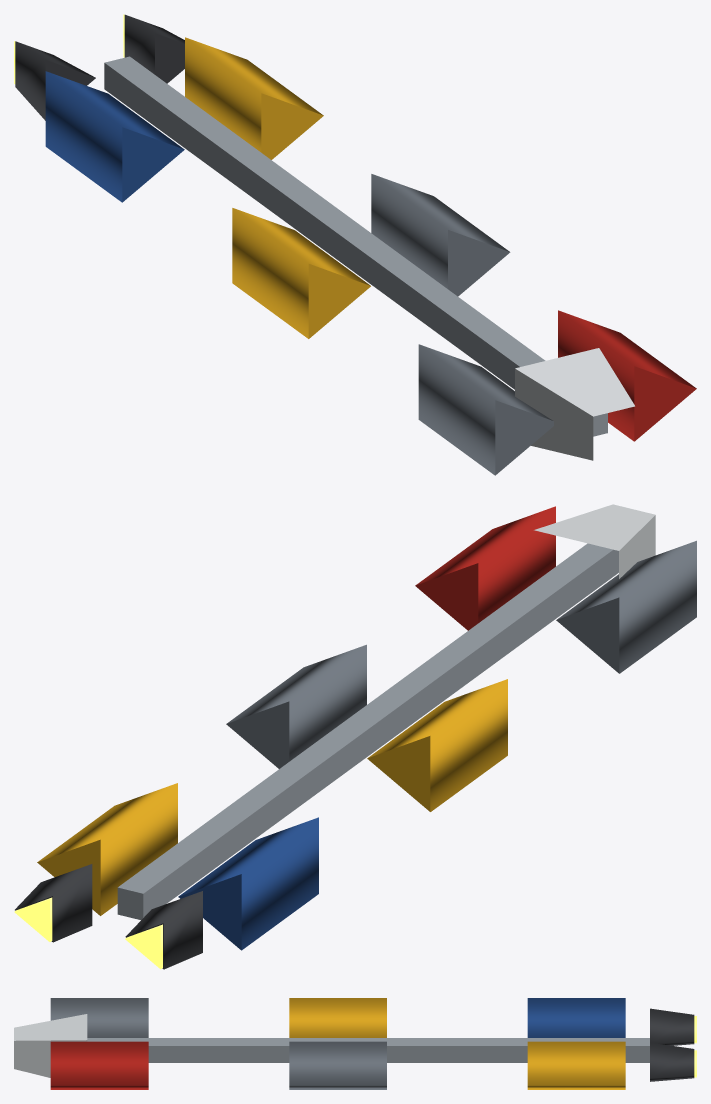
The model's file is space_ship_logistics_mk1_lod2.glb.
3 renders of one model, top to bottom at view 1: azimuth 30°, elevation 25°; view 2: azimuth 150°, elevation 25°; view 3: azimuth 270°, elevation 25°, orthographic. The views are drawn at different scales.
Parts seen in each view (by area): view 1: body, pod_0_0, pod_1_0, pod_2_0, pod_1_1, pod_0_1, pod_2_1, engine_0, engine_1; view 2: body, pod_1_0, pod_2_0, pod_0_0, pod_1_1, pod_2_1, pod_0_1, engine_0, engine_1; view 3: body, pod_0_1, pod_2_1, pod_1_1, pod_0_0, pod_1_0, pod_2_0, engine_0, engine_1.
Part boxes in pixels (x1,y1,x2,y2): body: [104, 56, 634, 460]; pod_0_0: [45, 71, 184, 202]; pod_1_0: [232, 208, 370, 338]; pod_2_0: [418, 344, 553, 475]; pod_1_1: [371, 174, 510, 296]; pod_0_1: [185, 37, 323, 159]; pod_2_1: [558, 310, 696, 441]; engine_0: [123, 14, 184, 83]; engine_1: [14, 41, 95, 120]; body: [117, 504, 655, 919]; pod_1_0: [367, 679, 507, 811]; pod_2_0: [556, 540, 696, 673]; pod_0_0: [178, 817, 318, 950]; pod_1_1: [226, 644, 366, 768]; pod_2_1: [415, 506, 555, 630]; pod_0_1: [37, 783, 177, 915]; engine_0: [14, 864, 92, 942]; engine_1: [125, 891, 202, 969]; body: [14, 1014, 649, 1077]; pod_0_1: [527, 1041, 625, 1089]; pod_2_1: [50, 1041, 148, 1089]; pod_1_1: [289, 1041, 386, 1089]; pod_0_0: [527, 998, 625, 1037]; pod_1_0: [289, 998, 386, 1037]; pod_2_0: [50, 998, 148, 1037]; engine_0: [650, 1042, 696, 1081]; engine_1: [650, 1008, 696, 1045].
Size of the model in its own units: 6.33 by 2.27 by 29.03.
